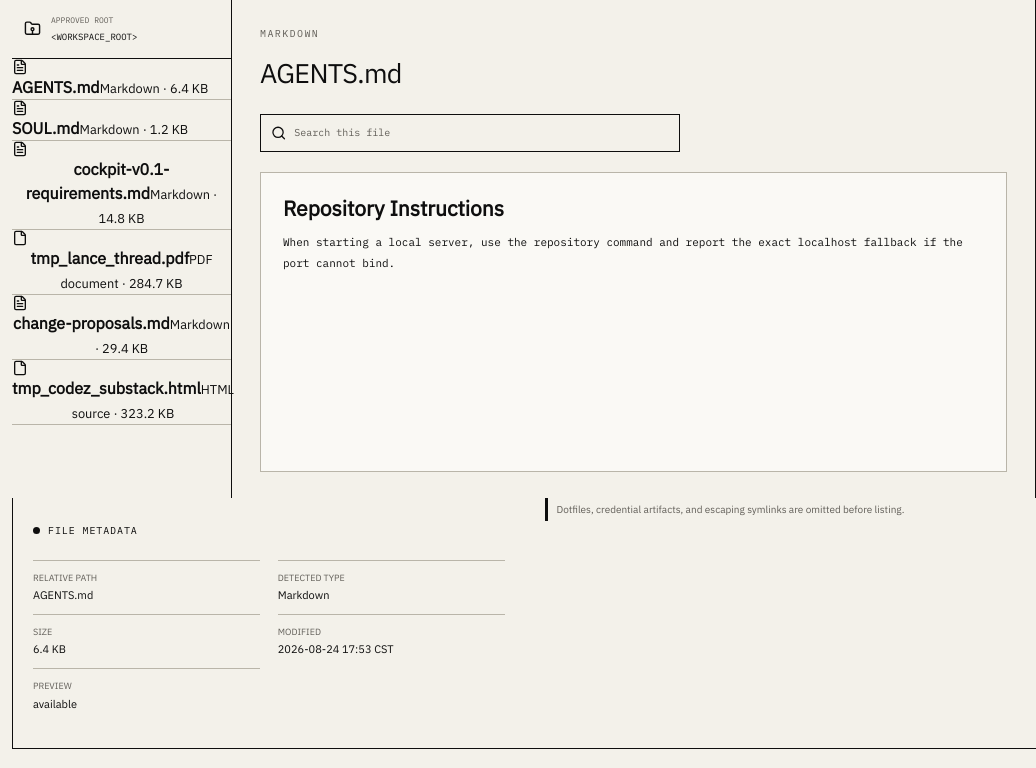
Scenario: mock inspection flows › shows metadata-only feedback for unsupported files
The image size is (1036, 768).
Click the button "tmp_lance_thread.pdf": (122, 262) [12, 230, 231, 294]
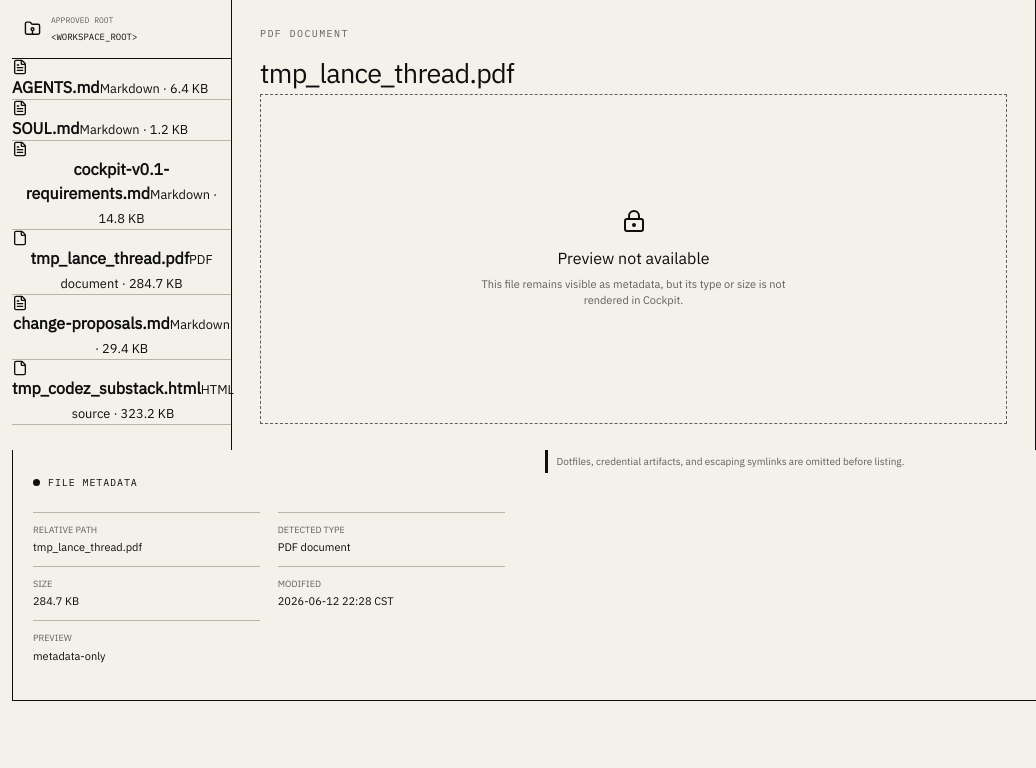
Expected: the heading "Preview not available" is shown, [558, 246, 710, 270]
Expected: the text "metadata-only" is shown, [33, 649, 106, 663]
